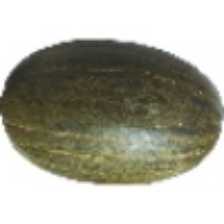honeydew: (53, 41, 205, 224)
